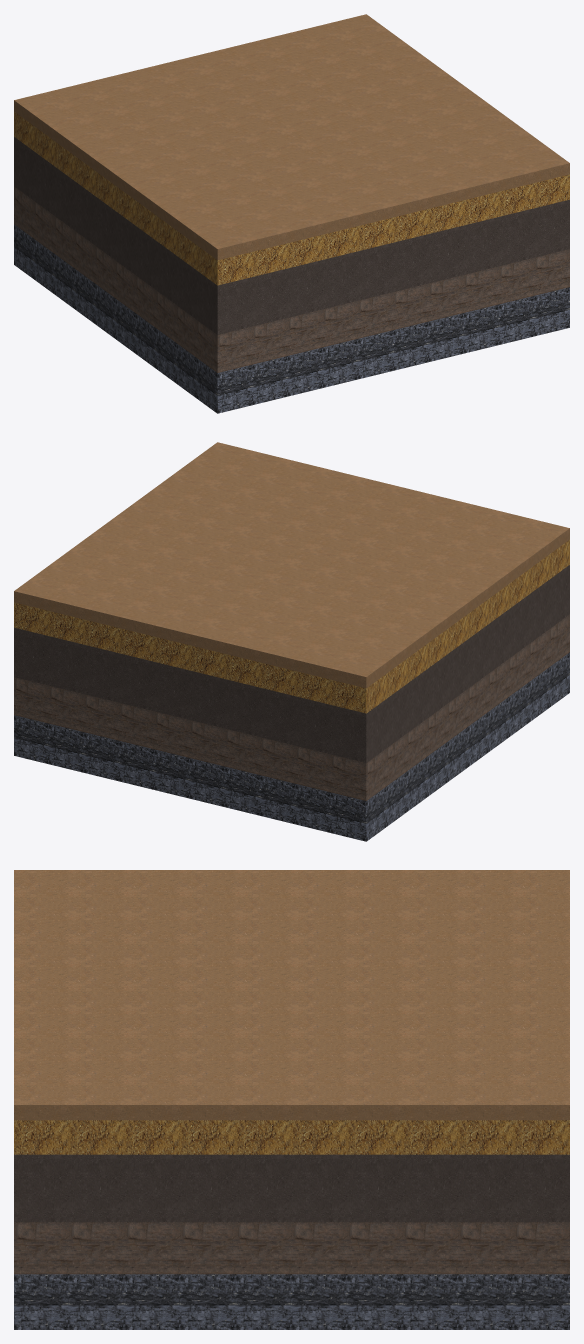
Rendered from 土体结构100x100x45.fbx.
3 renders of one model, top to bottom at view 1: azimuth 30°, elevation 25°; view 2: azimuth 150°, elevation 25°; view 3: azimuth 270°, elevation 25°, orthographic. The views are drawn at different scales.
Parts seen in each view (by area): view 1: tuti100x100; view 2: tuti100x100; view 3: tuti100x100.
Boxes of the visible parts, x1,y1,x2,y2 form: tuti100x100: (14,14,569,413); tuti100x100: (14,442,569,841); tuti100x100: (14,870,569,1329).
Bounding box in the file's own units: 100 × 44.63 × 100.
